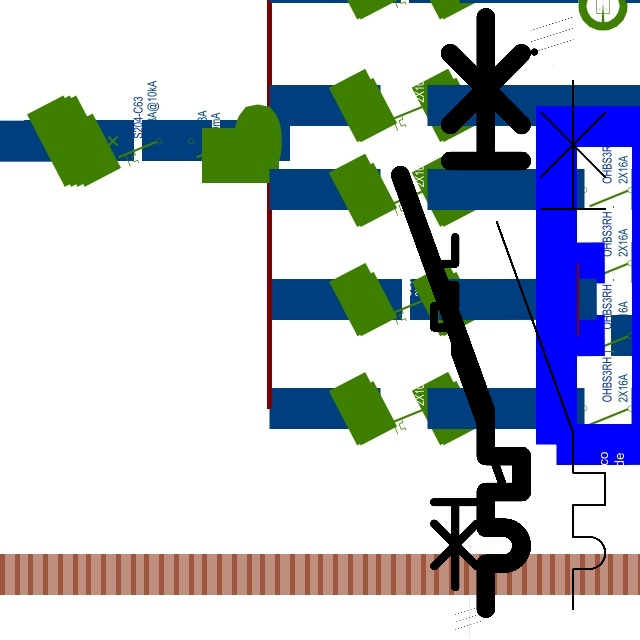interruptor_termomagnetico: (385, 2, 537, 624), (483, 66, 619, 622), (425, 228, 515, 596)
